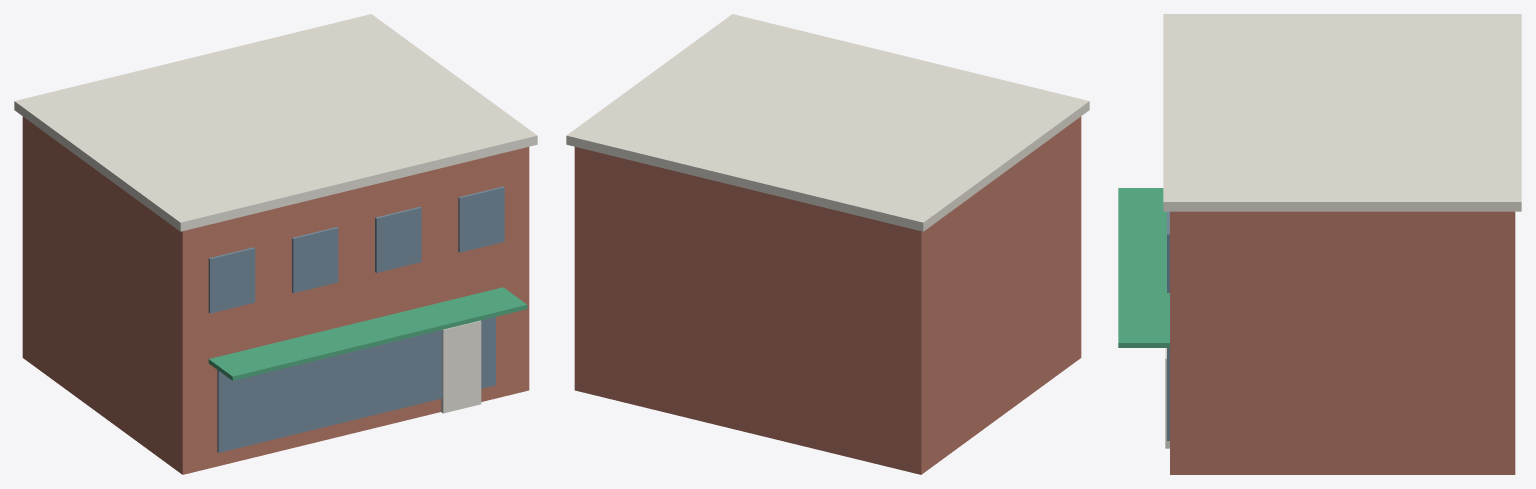
The model's file is corner_store.glb.
The picture shows the model from 3 angles, left to right: view 1: azimuth 30°, elevation 25°; view 2: azimuth 150°, elevation 25°; view 3: azimuth 270°, elevation 25°; orthographic projection. The views are drawn at different scales.
Visible parts, largest first — view 1: body, roof, shopfront, awning, door, win1_0, win1_2, win1_3, win1_1; view 2: body, roof; view 3: body, roof, awning.
Part boxes in pixels (x1,y1,x2,y2): body: (22,116,529,474); roof: (14,14,537,231); shopfront: (217,317,495,452); awning: (208,287,527,380); door: (441,320,481,413); win1_0: (208,247,255,313); win1_2: (375,206,421,272); win1_3: (458,186,504,252); win1_1: (292,227,338,293); body: (574,116,1081,474); roof: (566,14,1089,231); body: (1170,211,1515,474); roof: (1163,14,1521,211); awning: (1118,188,1169,347).
Size of the model in its own units: 10.3 by 7.05 by 9.35.
